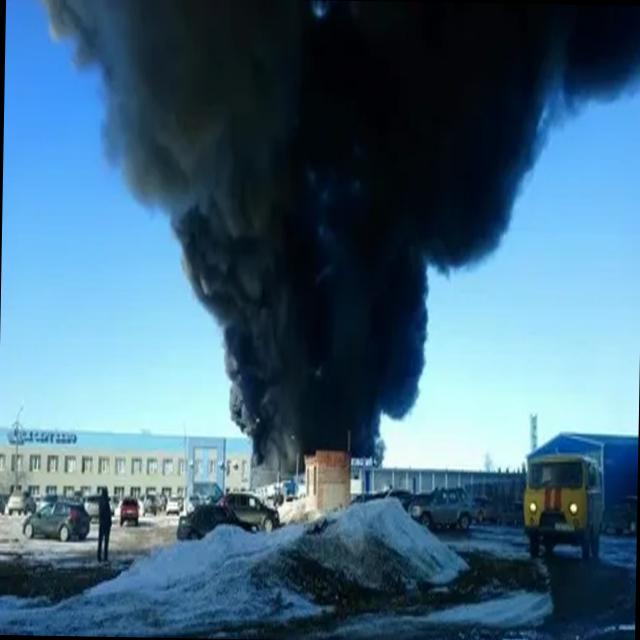Smoke: (34, 0, 640, 465)
